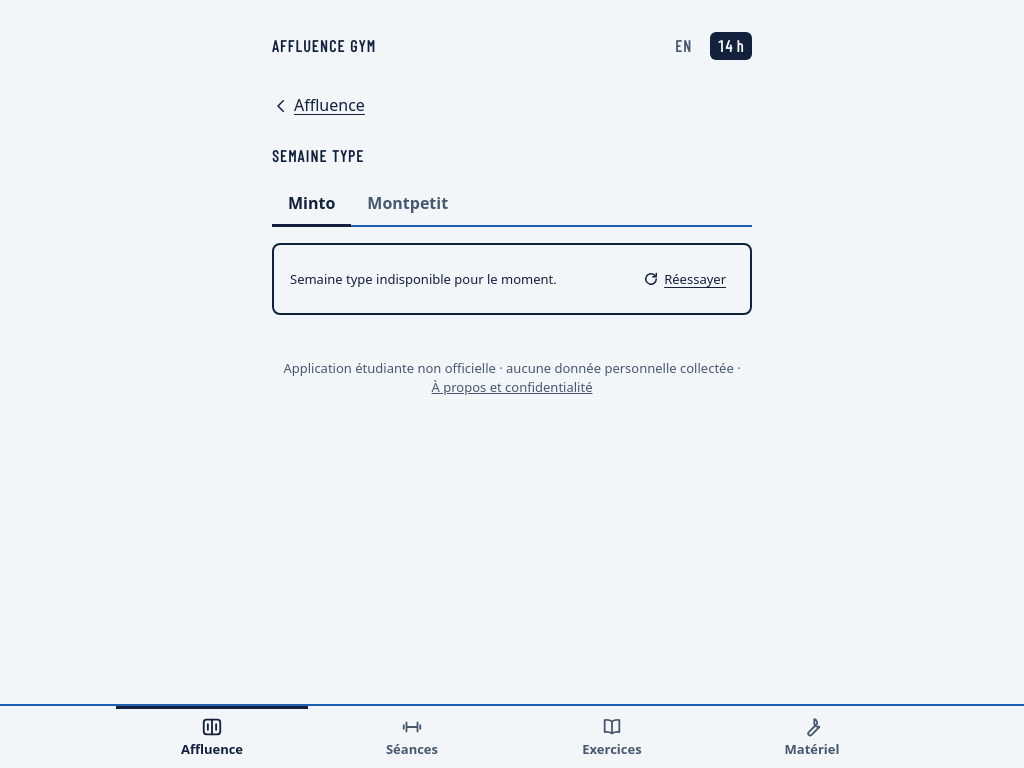
Scenario: semaine type › propose de réessayer si le serveur ne répond pas
The width and height of the screenshot is (1024, 768).
Expected: the message shows "Semaine type indisponible pour le moment.", [290,270,557,288]
Click the button "Réessayer" at (684, 279), box [634,257,734,301]
(page scrolled)
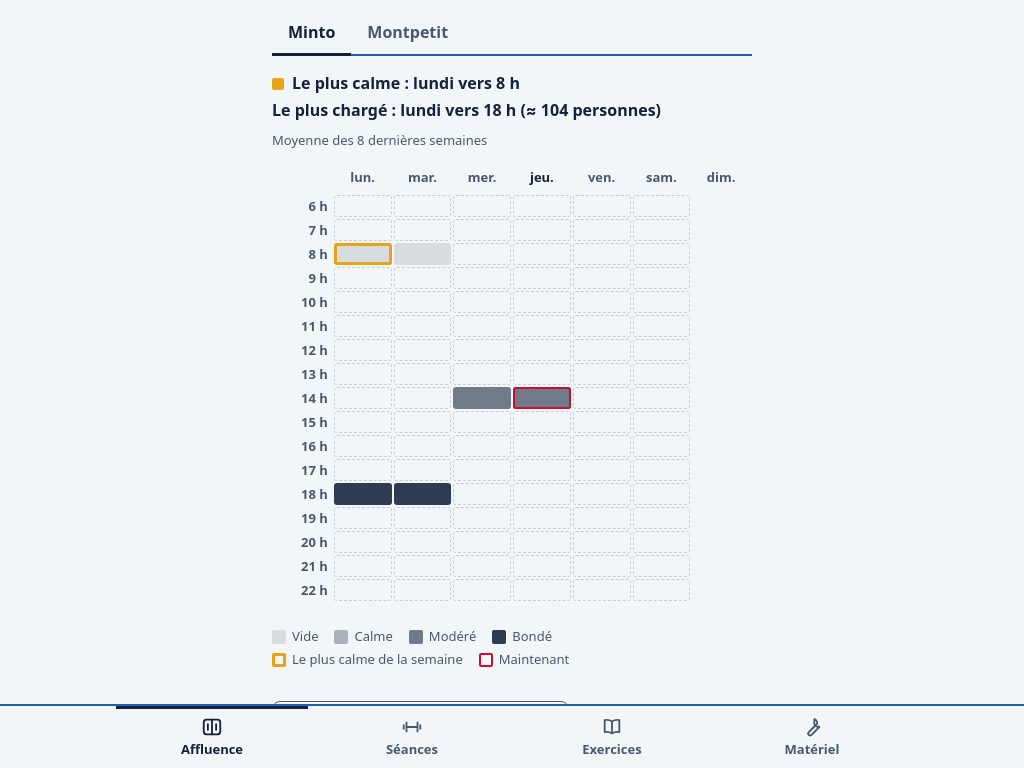
Expected: the table is shown, [272,165,752,603]
